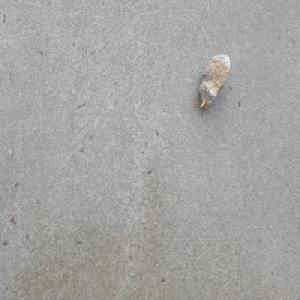Rock: (198, 53, 230, 112)
